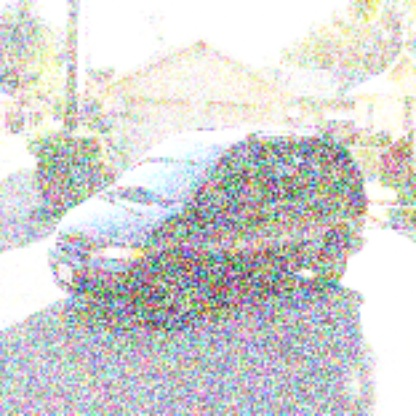Vehicle: (50, 131, 369, 335)
